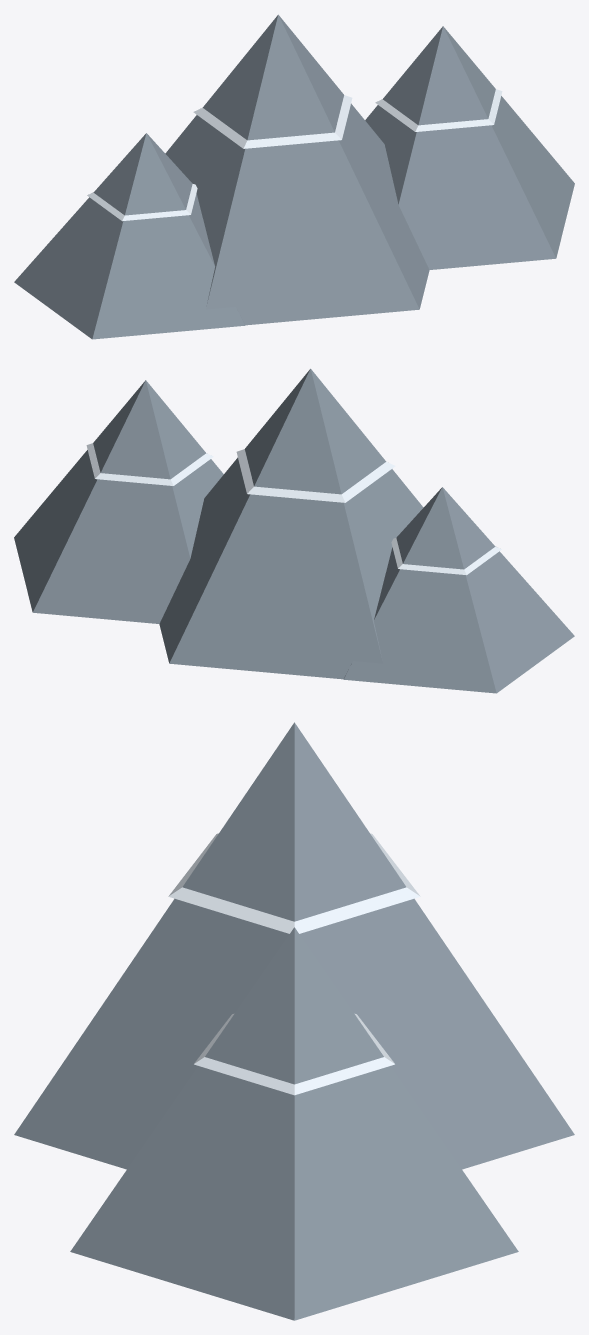
The model's file is Mush_MapProp_MountainSilhouette_V2.fbx.
3 views of the same model, one above another, from view 1: azimuth 30°, elevation 25°; view 2: azimuth 150°, elevation 25°; view 3: azimuth 270°, elevation 25° (orthographic). The views are drawn at different scales.
Parts seen in each view (by area): view 1: Mush_MapProp_MountainSilhouette_V2; view 2: Mush_MapProp_MountainSilhouette_V2; view 3: Mush_MapProp_MountainSilhouette_V2.
Boxes of the visible parts, x1,y1,x2,y2 form: Mush_MapProp_MountainSilhouette_V2: [14, 14, 574, 339]; Mush_MapProp_MountainSilhouette_V2: [14, 368, 574, 693]; Mush_MapProp_MountainSilhouette_V2: [14, 722, 574, 1320].
Bounding box in the file's own units: 3166 × 1400 × 1902.
